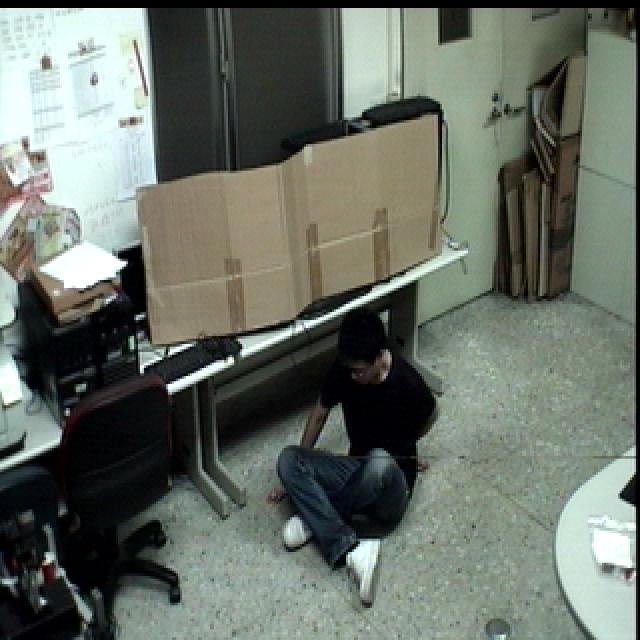sit: (269, 304, 448, 614)
